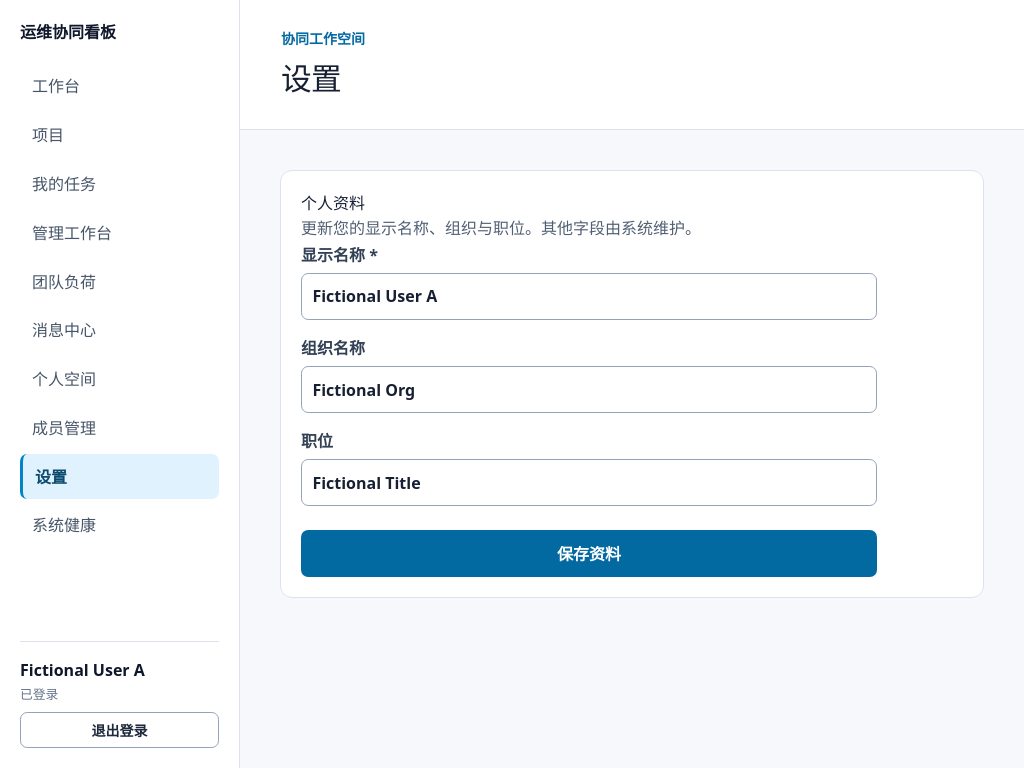
Scenario: 个人资料页 › profile 更新失败显示安全错误
Replace the text in the field labelled "显示名称 *" with "Another Name" at (589, 296), box [301, 273, 877, 320]
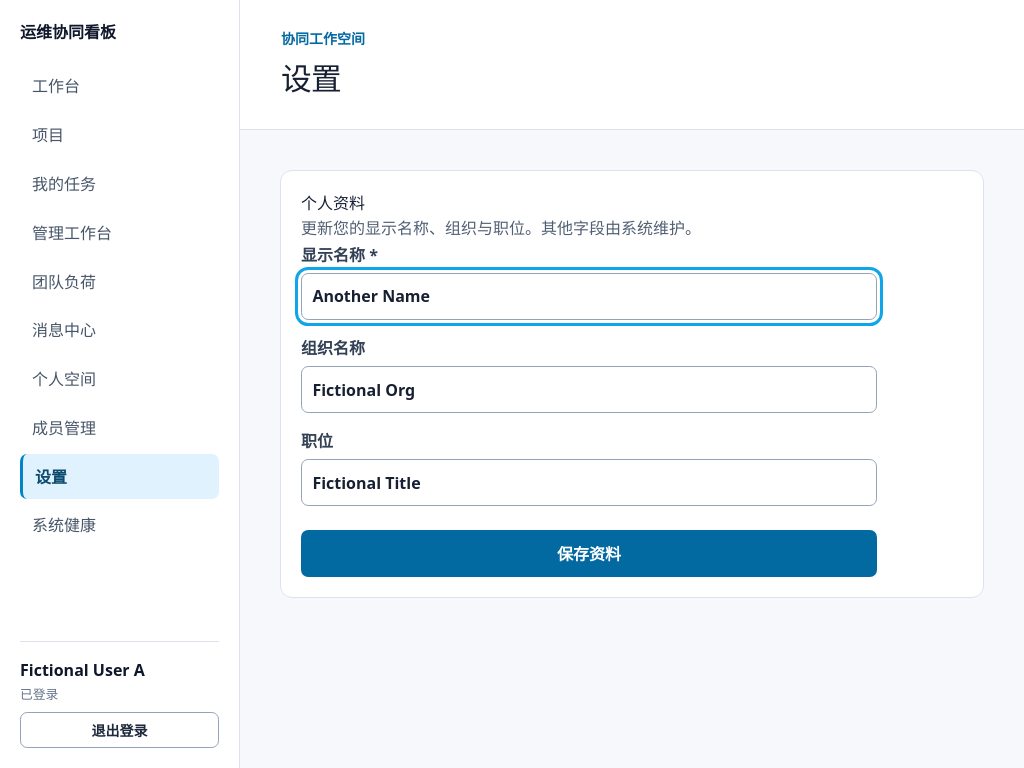
Click the button "保存资料".
click(589, 554)  # box [301, 530, 877, 577]
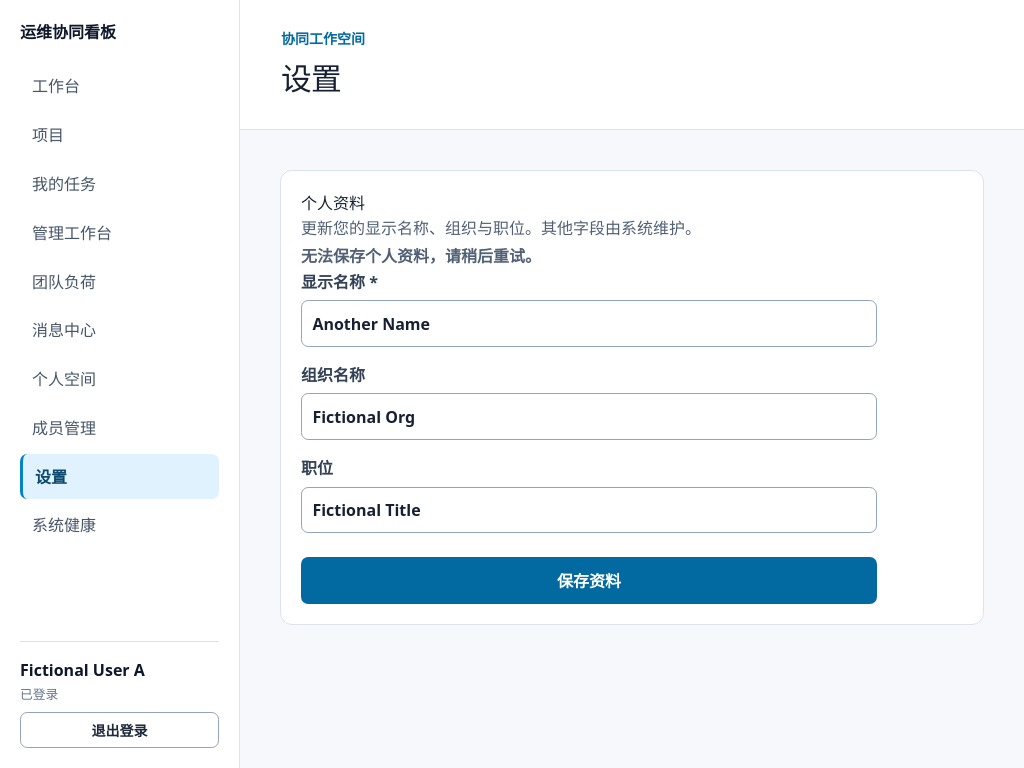
Result: the text "无法保存个人资料，请稍后重试。" is shown at [301, 245, 541, 267]
